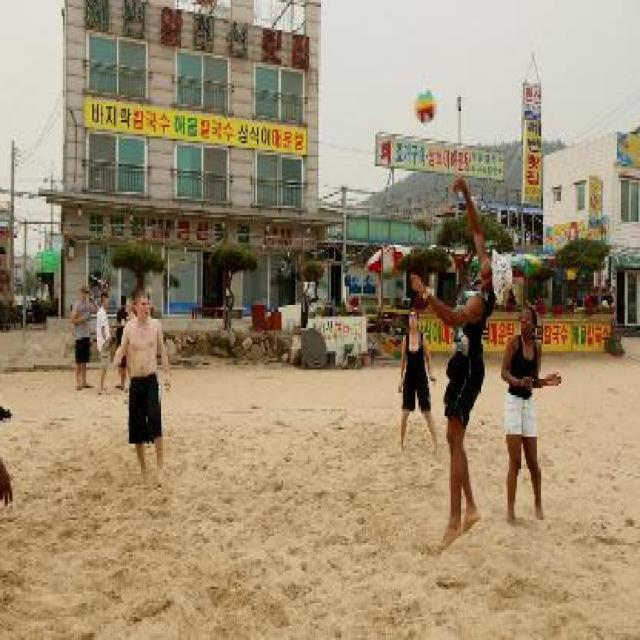volleyball: (412, 90, 438, 126)
